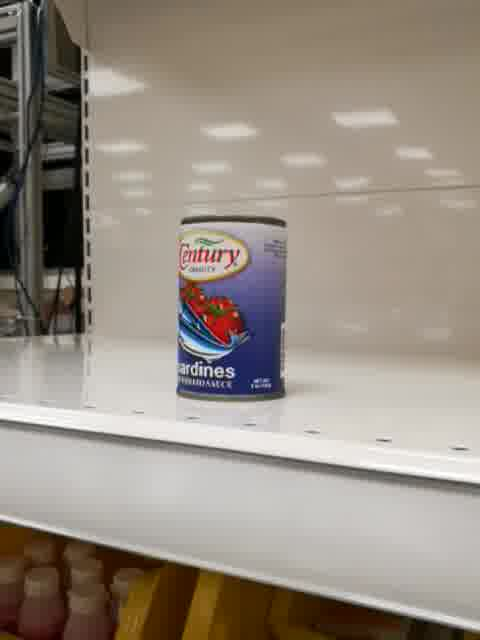sardine: (175, 213, 290, 404)
